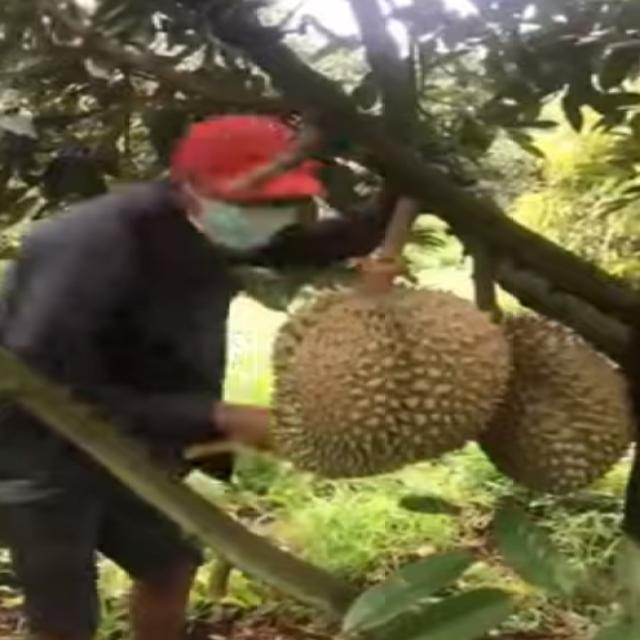mature: (248, 289, 512, 482), (424, 312, 636, 493)
